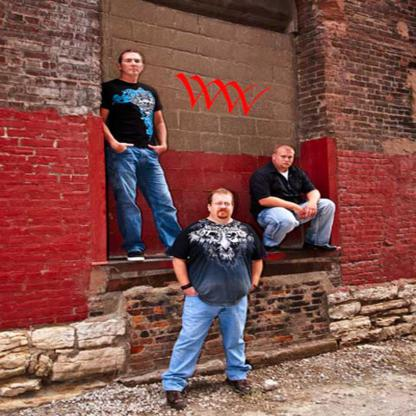face: (212, 194, 234, 219), (123, 54, 143, 76), (276, 152, 294, 169)
